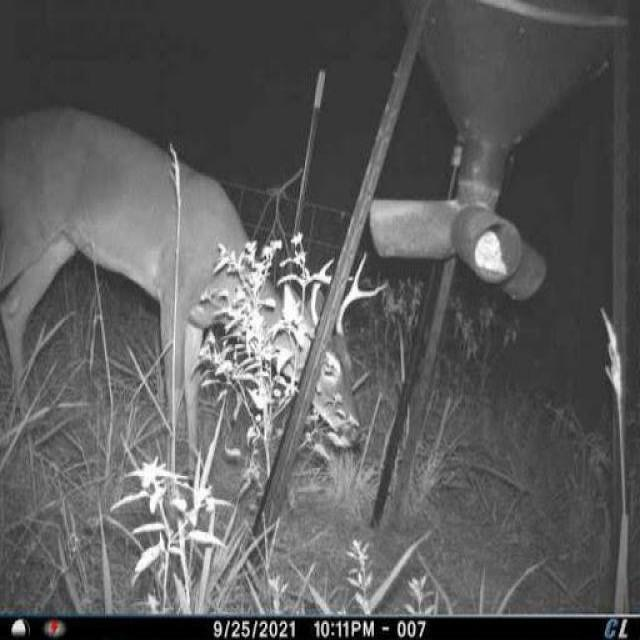deer: (0, 92, 385, 492)
